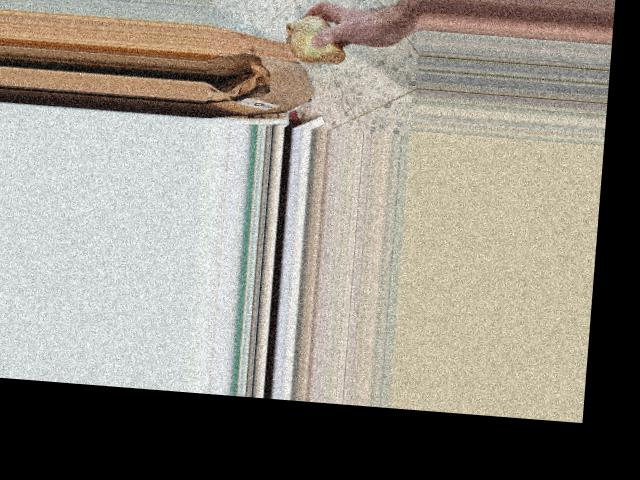onion: (281, 6, 352, 69)
